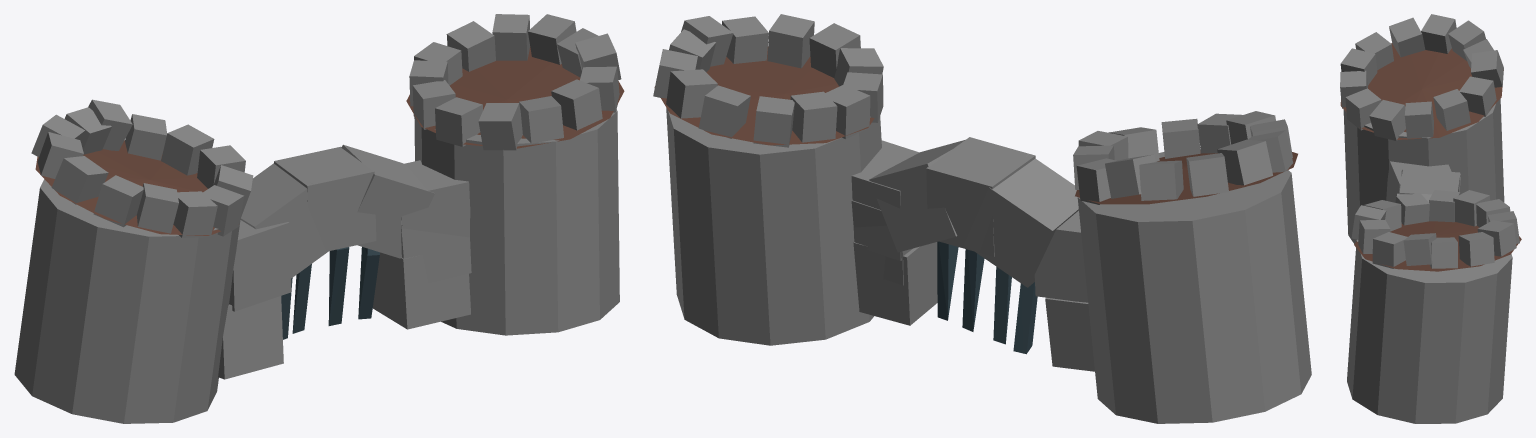
The picture shows the model from 3 angles, left to right: view 1: azimuth 30°, elevation 25°; view 2: azimuth 150°, elevation 25°; view 3: azimuth 270°, elevation 25°; orthographic projection. The views are drawn at different scales.
Visible parts, largest first — view 1: node_MeshObject1459831808-PolyPaper21; view 2: node_MeshObject1459831808-PolyPaper21; view 3: node_MeshObject1459831808-PolyPaper21.
Boxes of the visible parts, left/top/right/bottom form: node_MeshObject1459831808-PolyPaper21: left=14, top=14, right=624, bottom=423; node_MeshObject1459831808-PolyPaper21: left=653, top=14, right=1311, bottom=423; node_MeshObject1459831808-PolyPaper21: left=1340, top=14, right=1521, bottom=423.
Bounding box in the file's own units: 0.9961 × 0.4345 × 0.3461.
